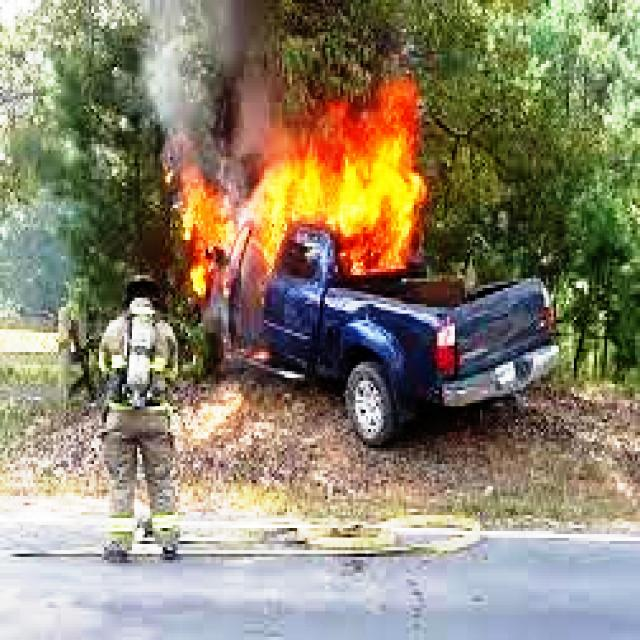api: (176, 62, 433, 292)
